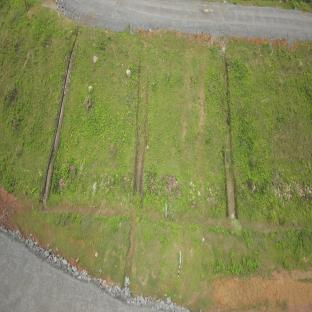rock_toe: (142, 172, 226, 216), (50, 166, 130, 206), (239, 174, 312, 215)
slope_drain: (40, 28, 78, 203), (221, 60, 239, 221), (132, 61, 151, 199)
